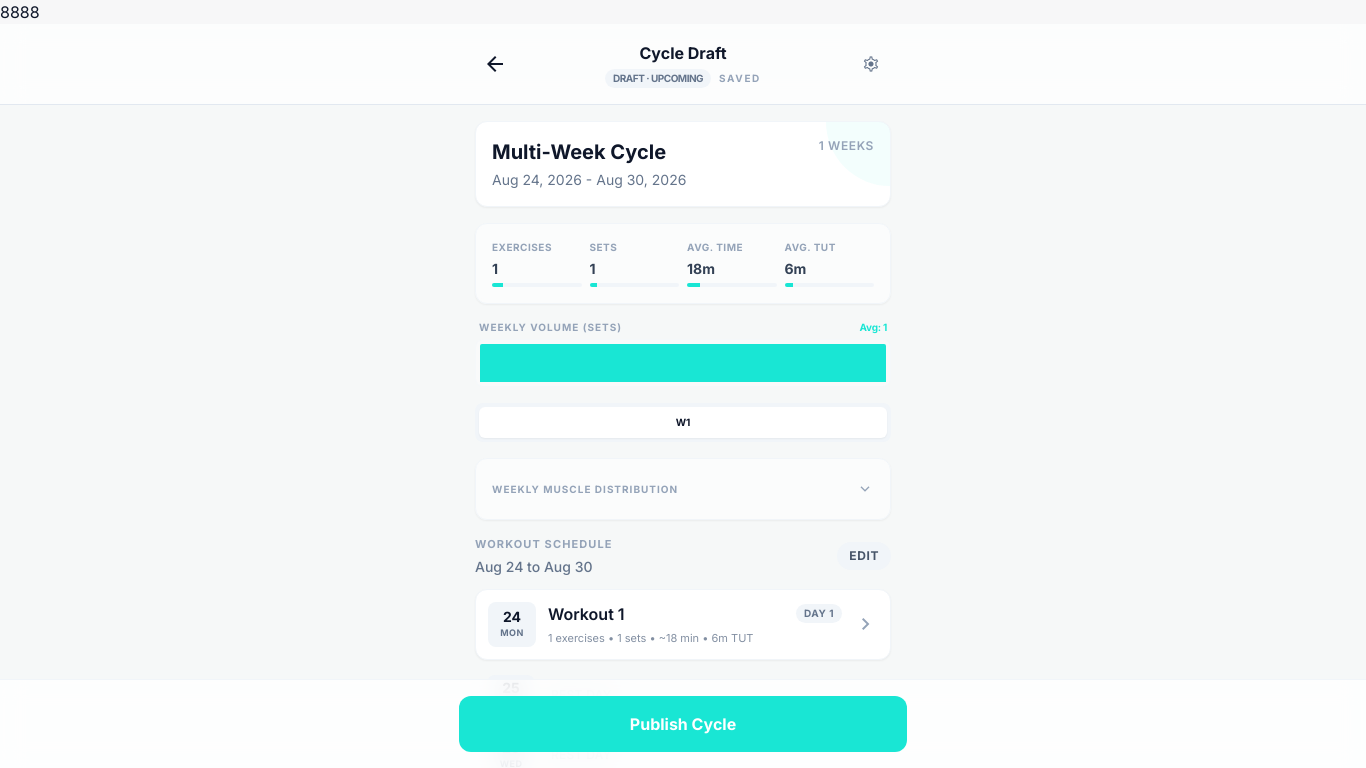
Scenario: ManualBuilderMulti workout terminal-action barrier › Save Settings blocks on a workout conflict and leaves the local workout intact
This screenshot has width=1366, height=768.
Expected: the button "Publish Cycle" is shown, [459,696,907,752]
Click the button named "Open cycle settings" at (871, 64), box [851,44,891,84]
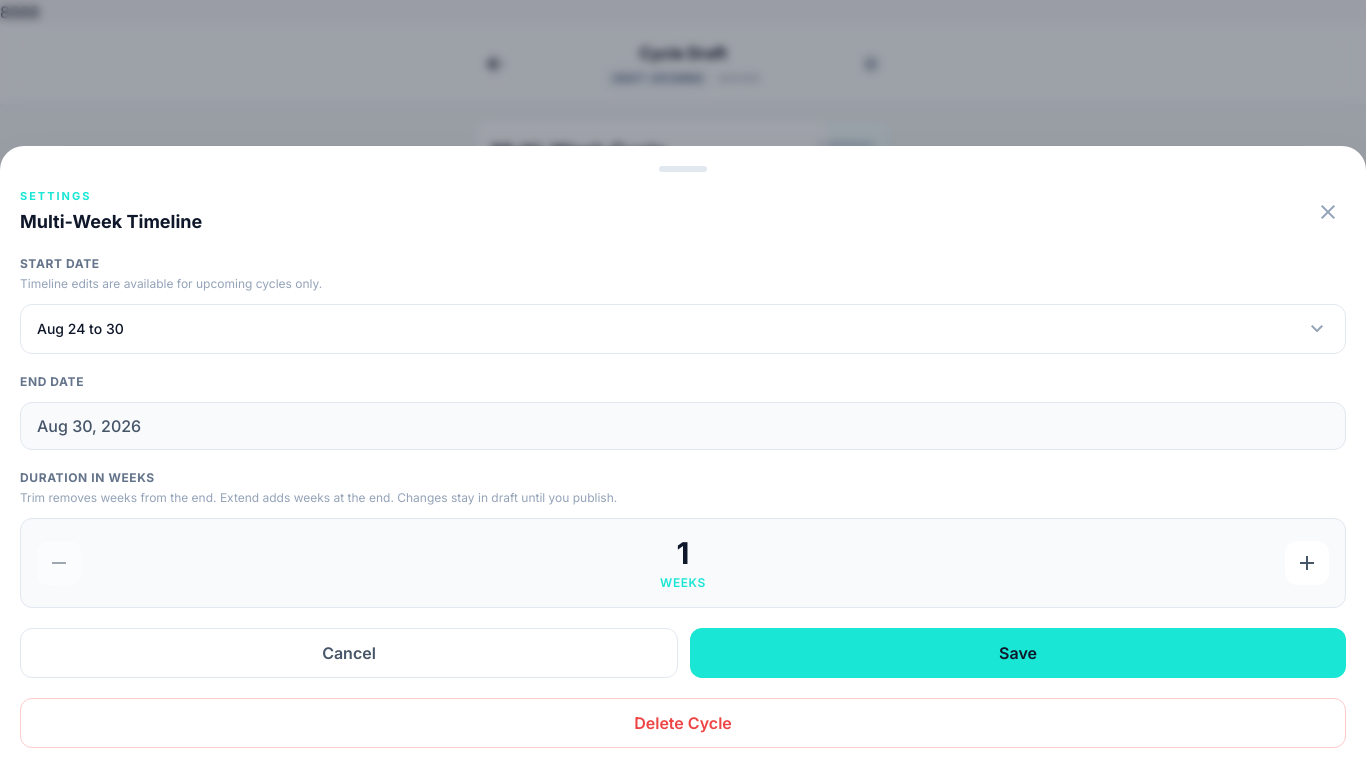
Click the button "Save" at (1018, 653), box [690,628,1346,678]
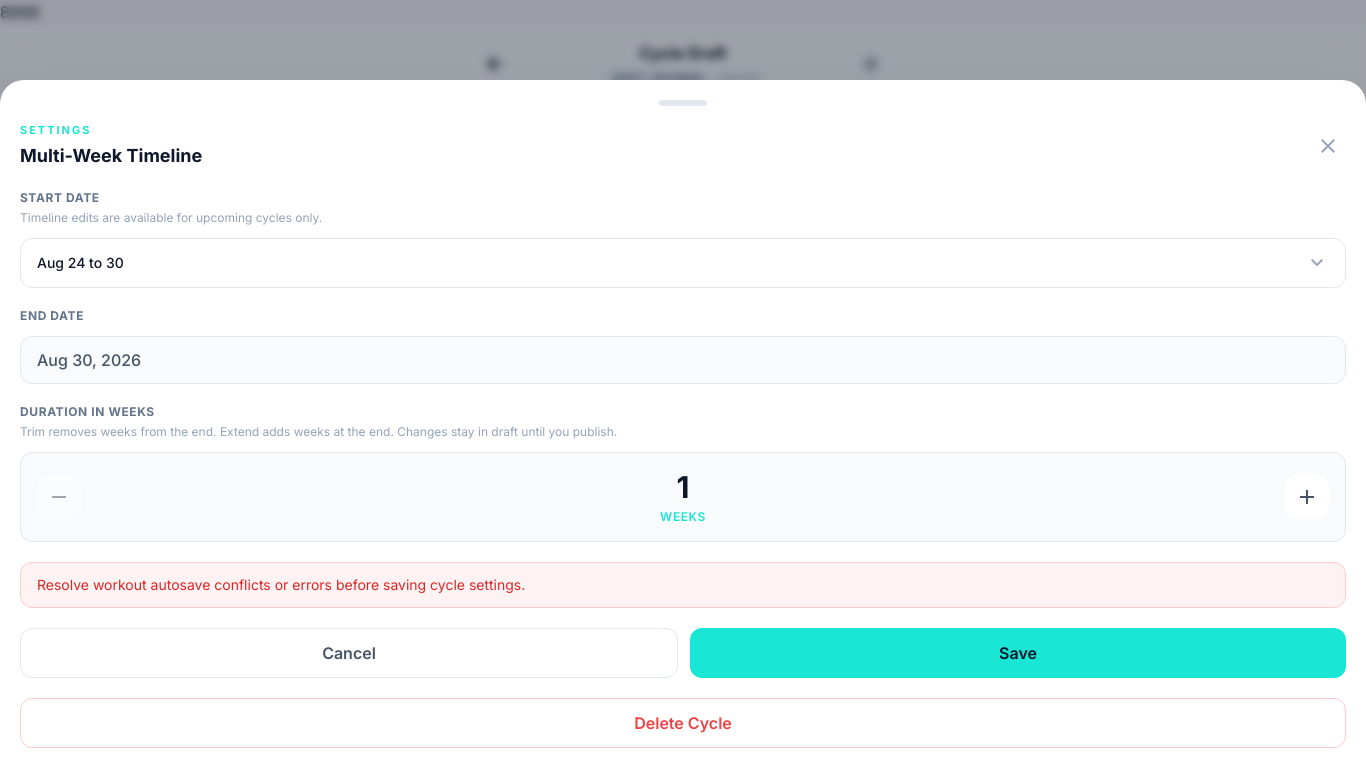
Expected: the text with test id "local-workout-reps" reads "88", [0,2,20,22]
Expected: the text "Resolve workout autosave conflicts or errors before saving cycle settings." is shown, [20,562,1346,608]
